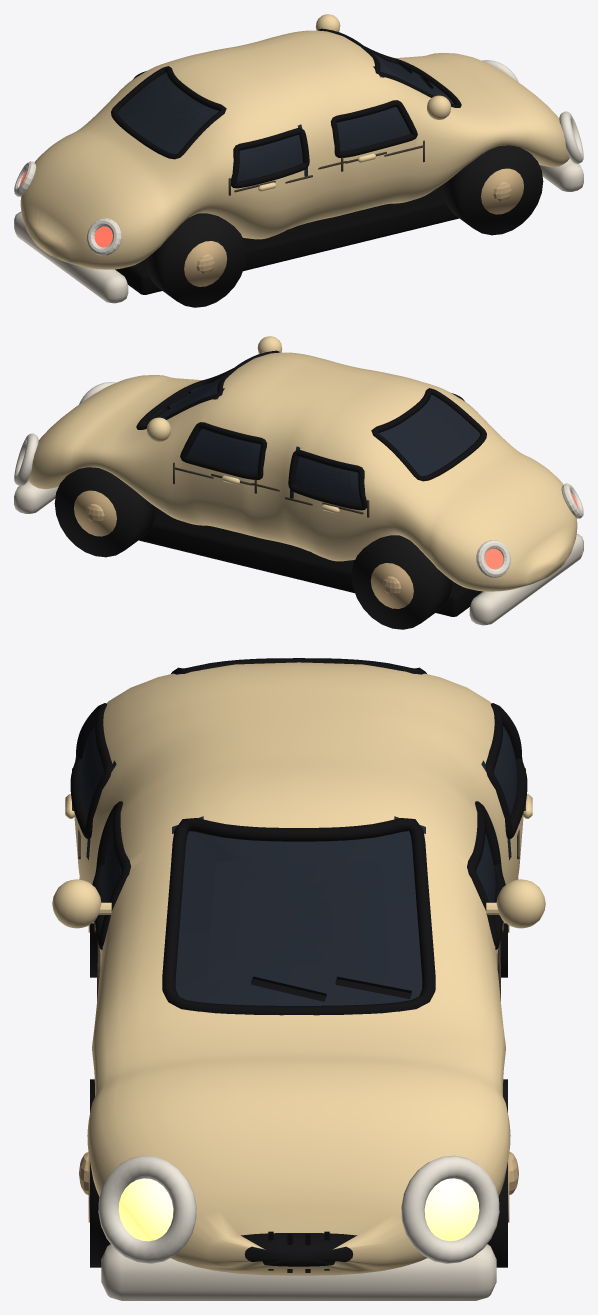
Rendered from 05-sedan-car.glb.
The picture shows the model from 3 angles, top to bottom: view 1: azimuth 30°, elevation 25°; view 2: azimuth 150°, elevation 25°; view 3: azimuth 270°, elevation 25°; orthographic projection. The views are drawn at different scales.
Visible parts, largest first — view 1: BodyHull, Underbody, TireRearL, TireFrontL, BumperRear, SealRW, SealSFL, SealSRL, HubFrontL, HubRearL, SealWS, BumperFront (+4 smaller); view 2: BodyHull, Underbody, TireRearR, TireFrontR, BumperRear, SealRW, SealSFR, SealSRR, HubFrontR, HubRearR, SealWS, BumperFront (+4 smaller); view 3: BodyHull, BumperFront, SealWS, HeadRingR, HeadRingL, HeadLensR, HeadLensL, SealSRL, SealSRR, SealSFR, SealSFL, MirrorBallR (+4 smaller).
Part boxes in pixels (x1,y1,x2,y2): BodyHull: (20, 30, 569, 269); Underbody: (115, 185, 458, 294); TireRearL: (145, 213, 246, 307); TireFrontL: (442, 145, 543, 235); BumperRear: (14, 211, 128, 303); SealRW: (111, 66, 226, 159); SealSFL: (330, 100, 417, 157); SealSRL: (231, 128, 309, 188); HubFrontL: (481, 168, 523, 214); HubRearL: (184, 241, 227, 286); SealWS: (318, 28, 461, 107); BumperFront: (539, 158, 583, 191); BodyHull: (28, 352, 577, 591); Underbody: (139, 507, 482, 616); TireRearR: (351, 535, 452, 629); TireFrontR: (54, 467, 155, 557); BumperRear: (469, 533, 583, 625); SealRW: (371, 388, 486, 481); SealSFR: (180, 422, 267, 479); SealSRR: (288, 450, 366, 510); HubFrontR: (74, 490, 116, 536); HubRearR: (370, 563, 413, 608); SealWS: (136, 350, 279, 429); BumperFront: (14, 480, 58, 513); BodyHull: (74, 662, 523, 1275); BumperFront: (101, 1244, 496, 1300); SealWS: (162, 818, 435, 1015); HeadRingR: (401, 1155, 499, 1263); HeadRingL: (98, 1155, 196, 1263); HeadLensR: (424, 1178, 479, 1241); HeadLensL: (118, 1178, 173, 1241); SealSRL: (70, 703, 112, 839); SealSRR: (485, 703, 527, 839); SealSFR: (467, 801, 505, 949); SealSFL: (92, 801, 130, 949); MirrorBallR: (496, 879, 545, 928).
Bounding box in the file's own units: 2.62 × 0.8866 × 1.1.
